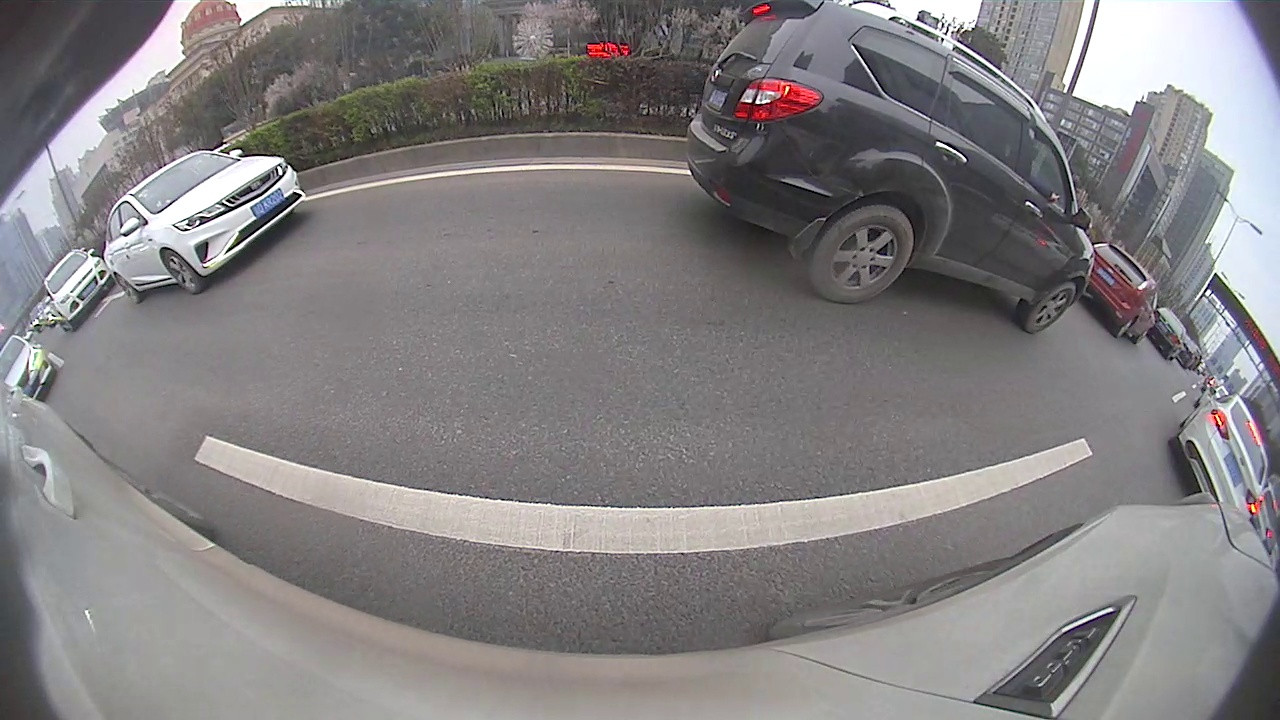car: (684, 1, 1095, 335), (101, 149, 307, 305), (1165, 393, 1271, 528), (1082, 242, 1156, 344), (41, 247, 115, 332), (2, 333, 58, 404), (1146, 306, 1189, 362)
front: (1022, 279, 1078, 335), (162, 249, 206, 295)
rear: (808, 204, 915, 304), (117, 277, 142, 305), (1117, 316, 1138, 339)
